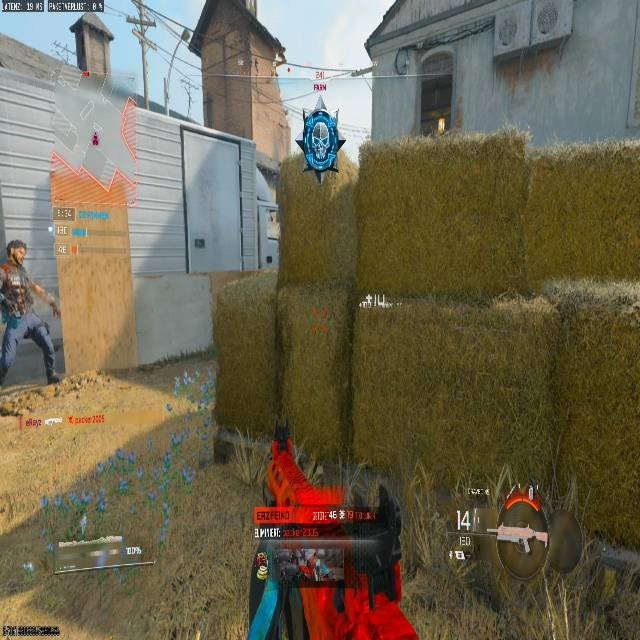head: (6, 239, 27, 265)
player: (0, 239, 59, 403)
